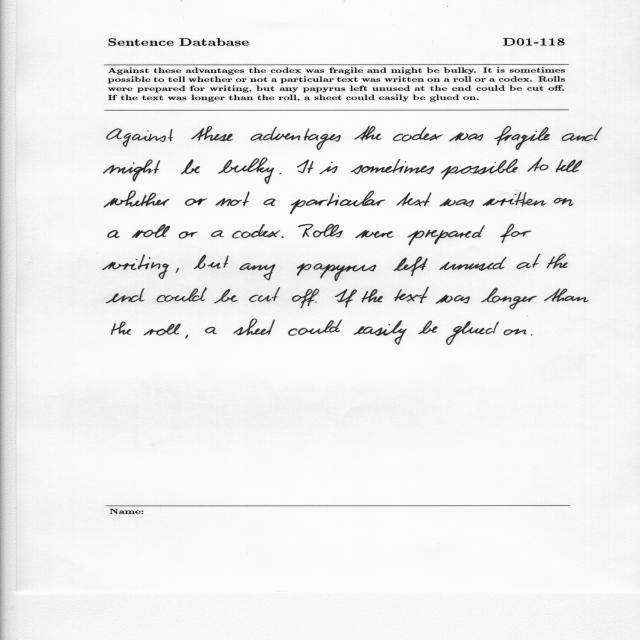word: (290, 191, 385, 214), (250, 127, 341, 150), (102, 255, 169, 280), (441, 159, 518, 180), (407, 226, 485, 246), (218, 158, 275, 184), (297, 264, 376, 282), (353, 320, 407, 345), (494, 126, 550, 150), (446, 321, 499, 345), (107, 128, 173, 147), (104, 160, 161, 182), (351, 159, 434, 174), (481, 288, 537, 310), (104, 191, 170, 208), (440, 257, 507, 271), (483, 192, 546, 206), (288, 320, 342, 336), (393, 127, 443, 142), (157, 287, 207, 302), (232, 224, 280, 239), (233, 319, 275, 336), (394, 256, 428, 276), (191, 126, 233, 141), (298, 224, 343, 238), (544, 289, 589, 303), (240, 263, 276, 280), (500, 224, 531, 243), (106, 289, 145, 304), (562, 128, 602, 142), (394, 287, 429, 303), (132, 224, 170, 238), (292, 289, 319, 308), (216, 192, 250, 207), (397, 193, 432, 207), (194, 255, 229, 269), (249, 287, 280, 302), (144, 324, 181, 336), (354, 126, 382, 141), (335, 289, 357, 307), (517, 254, 541, 269), (556, 160, 582, 173), (214, 289, 238, 303), (527, 157, 549, 172), (449, 133, 484, 142), (547, 254, 568, 269), (435, 295, 470, 304), (440, 198, 474, 207), (355, 230, 393, 238), (180, 160, 200, 175), (112, 321, 132, 335), (362, 289, 383, 302), (418, 321, 438, 334), (319, 162, 338, 175), (297, 160, 314, 173), (185, 198, 207, 206), (554, 198, 574, 206), (179, 232, 198, 239), (504, 329, 526, 335), (108, 230, 120, 238), (263, 199, 276, 206), (211, 230, 224, 237), (205, 327, 217, 334), (175, 268, 179, 273), (186, 334, 189, 339), (281, 236, 284, 238), (315, 301, 317, 303), (279, 173, 281, 174), (531, 335, 532, 336)
